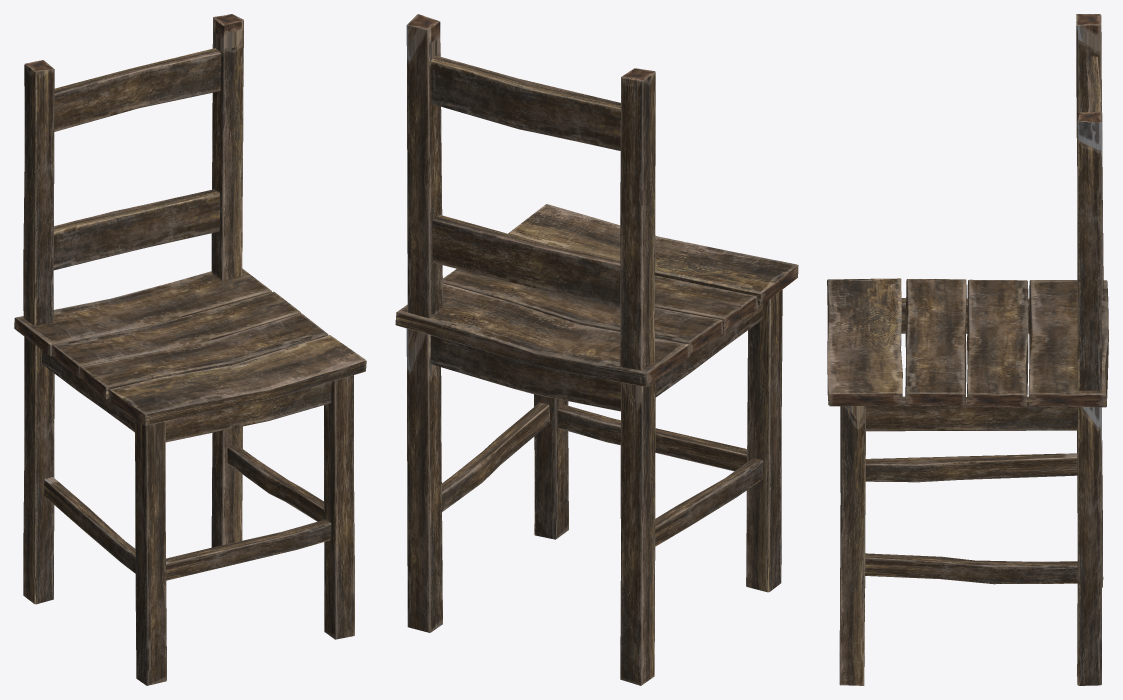
The model's file is SM_chair.fbx.
3 views of the same model, side by side, from view 1: azimuth 30°, elevation 25°; view 2: azimuth 150°, elevation 25°; view 3: azimuth 270°, elevation 25° (orthographic). The views are drawn at different scales.
Parts seen in each view (by area): view 1: SM_chair_LOD0; view 2: SM_chair_LOD0; view 3: SM_chair_LOD0.
Boxes of the visible parts, bbox=[...] form: SM_chair_LOD0: bbox=[14, 14, 366, 685]; SM_chair_LOD0: bbox=[395, 14, 798, 685]; SM_chair_LOD0: bbox=[827, 14, 1108, 685].
Bounding box in the file's own units: 45.7 × 46.59 × 103.
